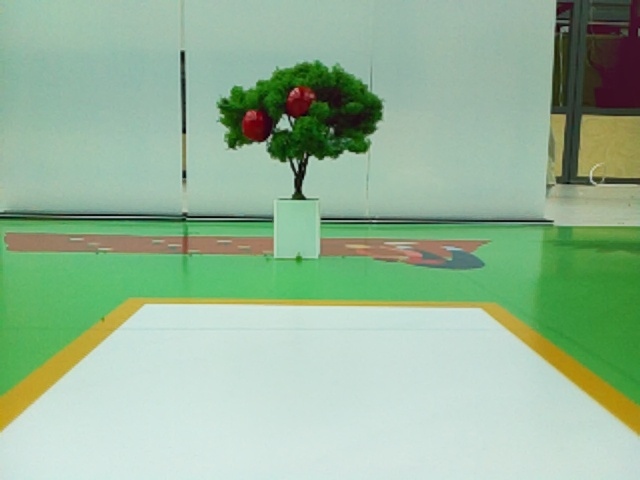apple: (287, 87, 316, 115), (242, 110, 264, 141)
